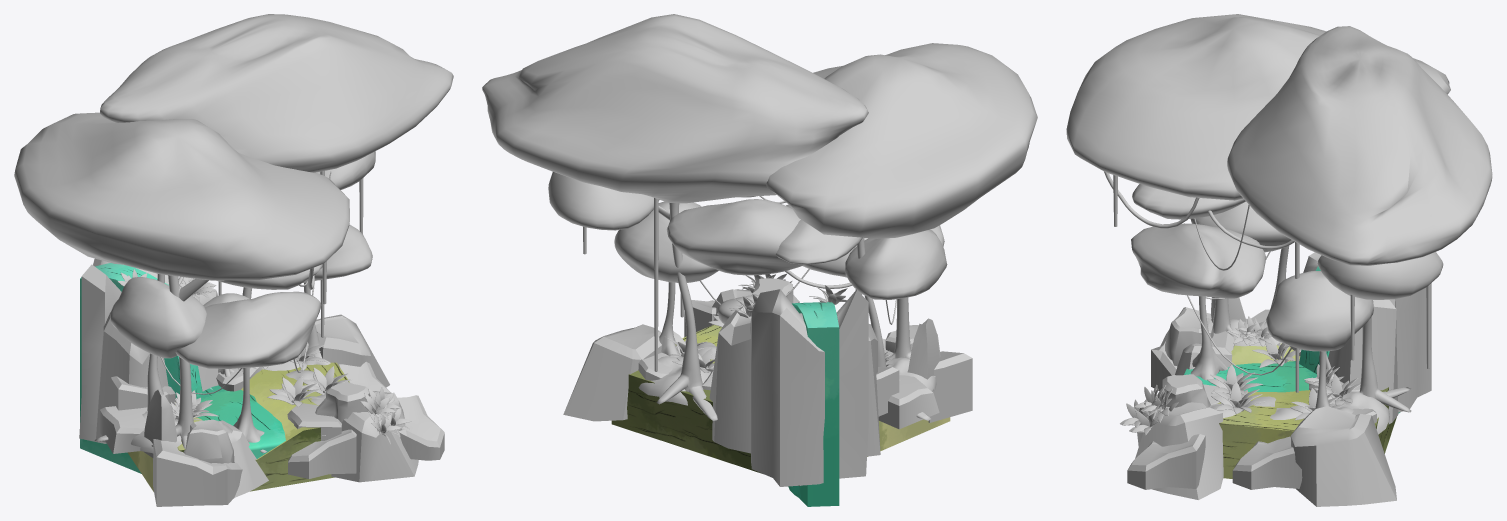
The model's file is biome_tropical (1).fbx.
The picture shows the model from 3 angles, left to right: view 1: azimuth 30°, elevation 25°; view 2: azimuth 150°, elevation 25°; view 3: azimuth 270°, elevation 25°; orthographic projection. The views are drawn at different scales.
Visible parts, largest first — view 1: Feuillage_5, Feuillage_1, Feuillage_7, Feuillage_9, Sol_Jugngle, Callioux_13, Callioux_1, Callioux_16, Callioux_2, eau_etant, Eau_cassecade, Callioux_14 (+18 smaller); view 2: Feuillage_1, Feuillage_5, Callioux_1, Feuillage_3, Sol_Jugngle, Feuillage_9, Callioux_31, Callioux_3, Eau_cassecade, Feuillage_2, Feuillage_4, Tronc_1 (+13 smaller); view 3: Feuillage_1, Feuillage_5, Callioux_31, Feuillage_7, Feuillage_4, Sol_Jugngle, Callioux_16, Feuillage_2, Callioux_1, Callioux_3, Callioux_15, Callioux_29 (+14 smaller).
Part boxes in pixels (bbox=[...]): Feuillage_5: bbox=[14, 112, 349, 280]; Feuillage_1: bbox=[100, 14, 453, 172]; Feuillage_7: bbox=[175, 291, 321, 368]; Feuillage_9: bbox=[110, 277, 206, 358]; Sol_Jugngle: bbox=[127, 362, 349, 491]; Callioux_13: bbox=[153, 439, 242, 506]; Callioux_1: bbox=[79, 258, 168, 443]; Callioux_16: bbox=[331, 391, 418, 482]; Callioux_2: bbox=[96, 312, 168, 442]; eau_etant: bbox=[196, 385, 285, 458]; Eau_cassecade: bbox=[80, 263, 202, 473]; Callioux_14: bbox=[288, 429, 356, 478]; Feuillage_1: bbox=[482, 14, 868, 203]; Feuillage_5: bbox=[766, 43, 1037, 238]; Callioux_1: bbox=[750, 289, 868, 486]; Feuillage_3: bbox=[666, 199, 803, 275]; Sol_Jugngle: bbox=[611, 324, 950, 485]; Feuillage_9: bbox=[845, 229, 947, 299]; Callioux_31: bbox=[563, 324, 661, 421]; Callioux_3: bbox=[709, 307, 751, 453]; Eau_cassecade: bbox=[788, 302, 839, 506]; Feuillage_2: bbox=[548, 172, 659, 230]; Feuillage_4: bbox=[614, 201, 718, 282]; Tronc_1: bbox=[656, 203, 717, 420]; Feuillage_1: bbox=[1227, 26, 1492, 265]; Feuillage_5: bbox=[1066, 14, 1450, 200]; Callioux_31: bbox=[1290, 406, 1396, 506]; Feuillage_7: bbox=[1131, 223, 1265, 298]; Feuillage_4: bbox=[1266, 271, 1373, 351]; Sol_Jugngle: bbox=[1217, 343, 1396, 478]; Callioux_16: bbox=[1135, 397, 1223, 499]; Feuillage_2: bbox=[1317, 252, 1443, 299]; Callioux_1: bbox=[1395, 283, 1431, 412]; Callioux_3: bbox=[1328, 299, 1398, 424]; Callioux_15: bbox=[1127, 434, 1205, 489]; Callioux_29: bbox=[1232, 437, 1302, 489].
Bounding box in the file's own units: 13.65 × 11.63 × 10.67.
